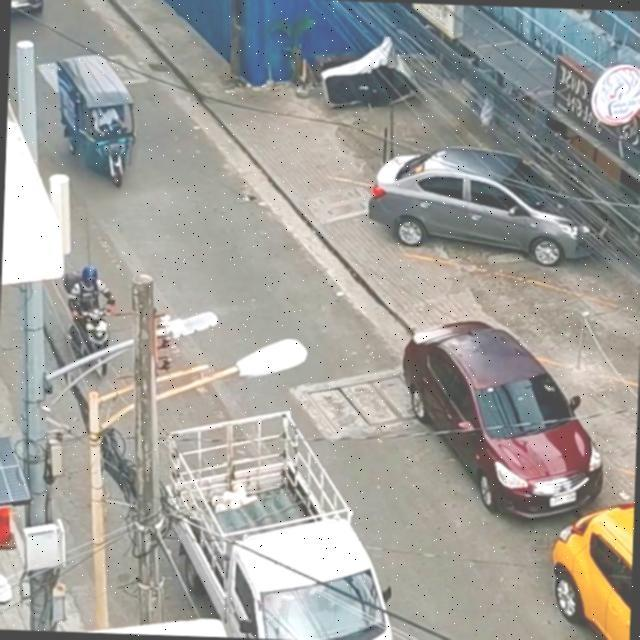Truck: (136, 387, 433, 640)
